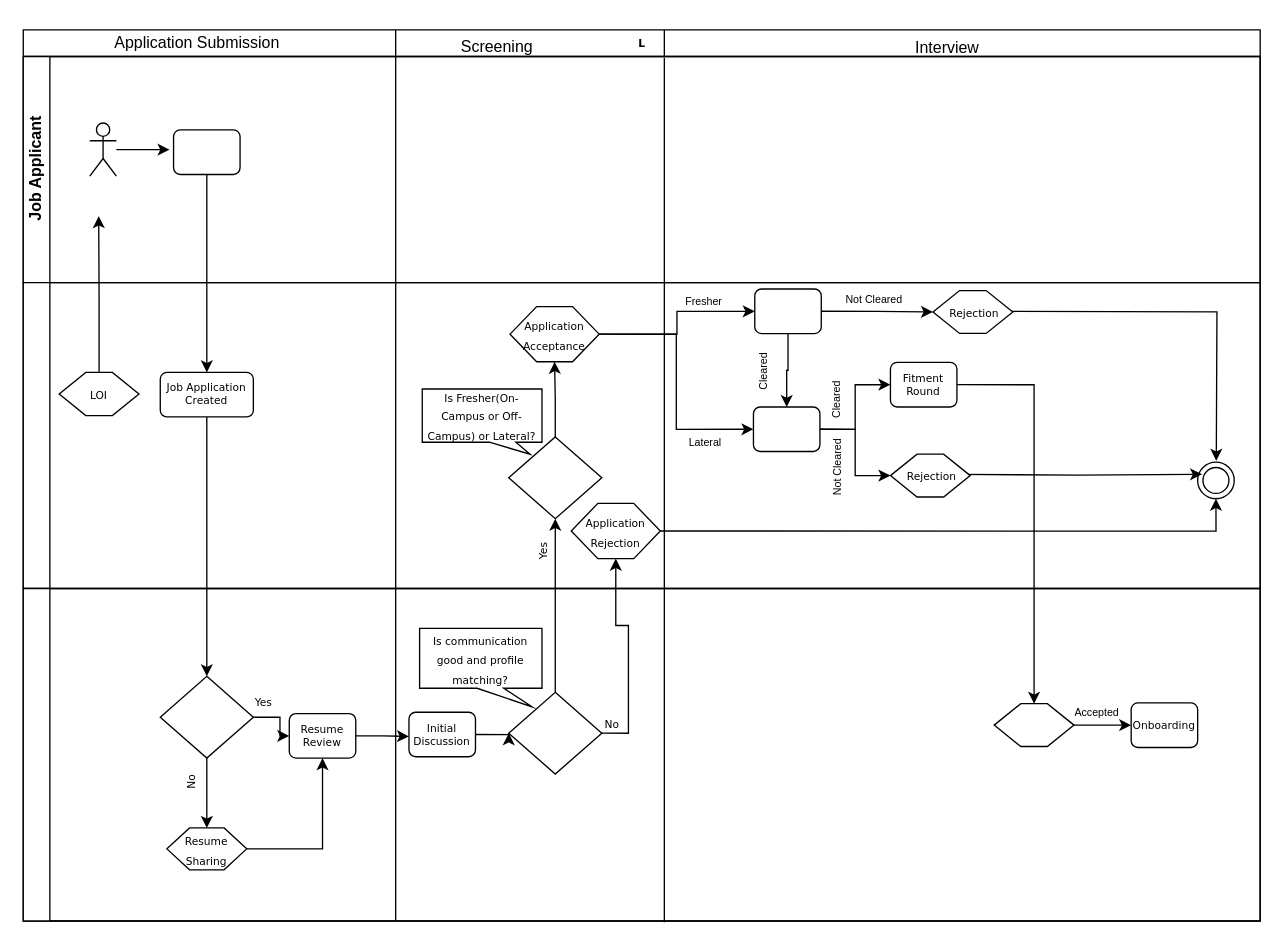
Image size: 1283x947. Some labels were removed from this diagram. The box of each missing label's shape, as (x1, y1, x2, y2) in pixels:
Candidate: (88, 122, 116, 176)
Group Discussion: (753, 288, 821, 334)
Is Resume Attached: (159, 675, 253, 758)
Job Apply: (172, 129, 240, 174)
Job Offer: (993, 702, 1074, 747)
Nectar: (22, 281, 1260, 589)
RCM: (22, 587, 1260, 921)
Technical Interview: (752, 406, 820, 452)
